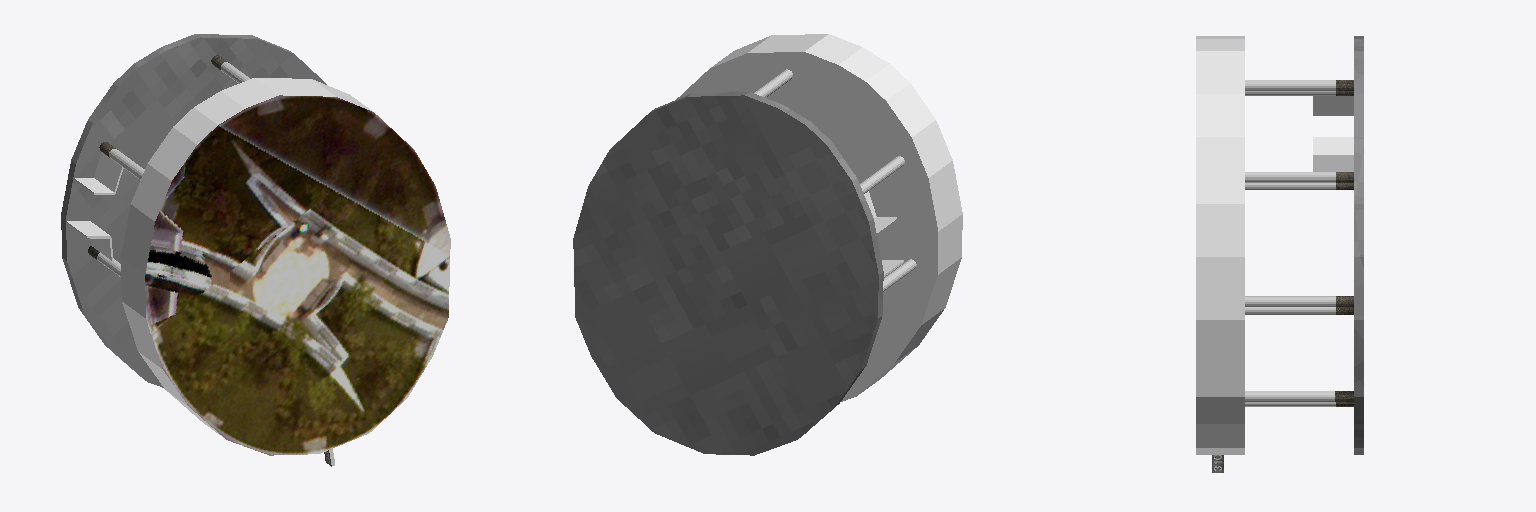
The picture shows the model from 3 angles: view 1: azimuth 30°, elevation 25°; view 2: azimuth 150°, elevation 25°; view 3: azimuth 270°, elevation 25°; orthographic projection.
Visible parts, largest first — view 1: polygon.778; view 2: polygon.778; view 3: polygon.778.
Part boxes in pixels (bbox=[...]): polygon.778: bbox=[61, 34, 450, 466]; polygon.778: bbox=[573, 34, 962, 455]; polygon.778: bbox=[1196, 36, 1363, 472].
Size of the model in its own units: 18.02 by 22.09 by 8.58.
Materials: 1 (1 with a texture image).